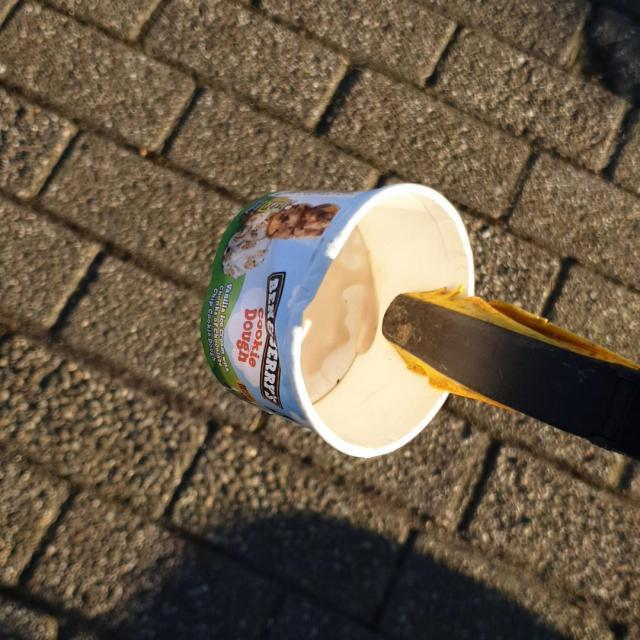Paper: (197, 180, 478, 462)
